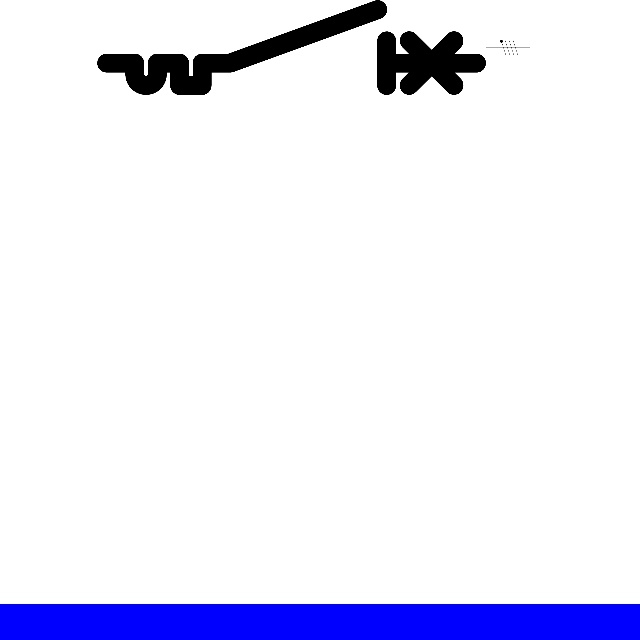interruptor_termomagnetico: (97, 0, 486, 95)
